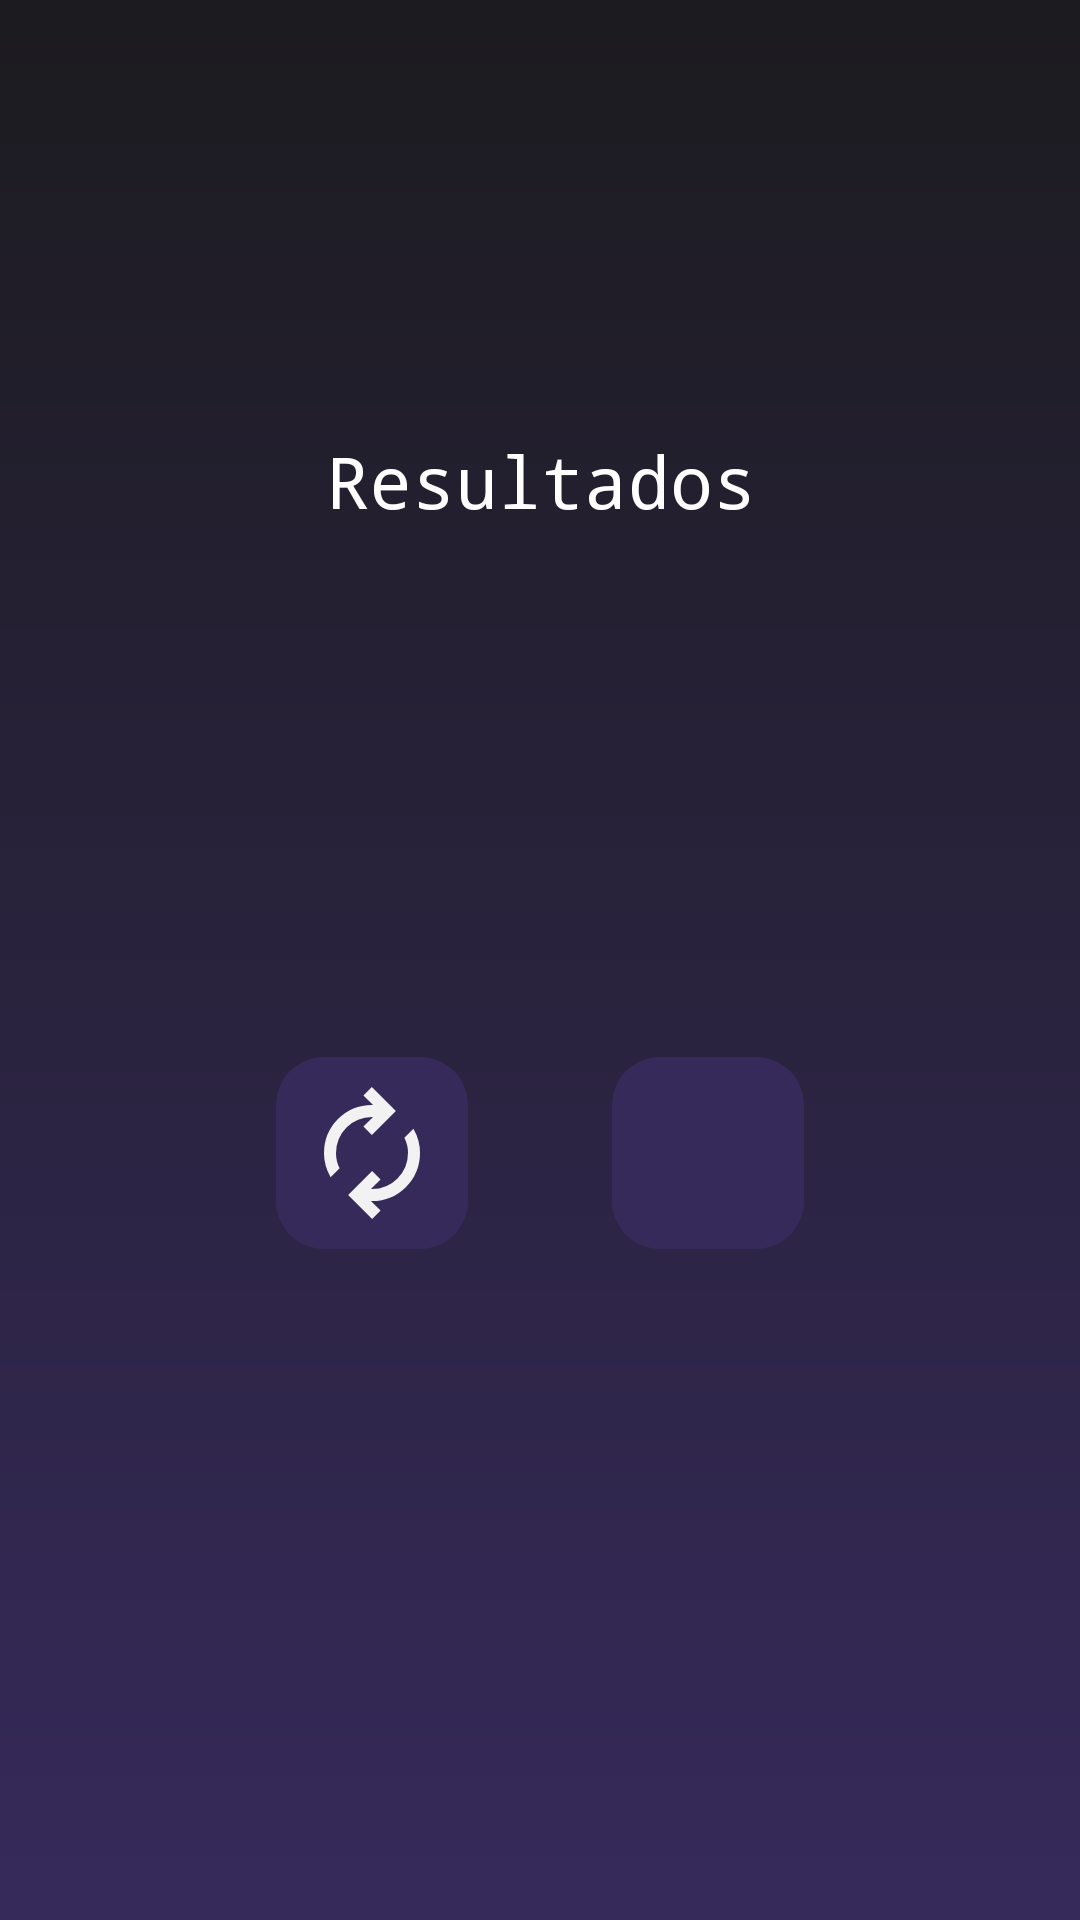

Point at icon controls on the screen. Image size 1080 x 1920, points as (x,y).
Reintentar juego: (372,1153)
